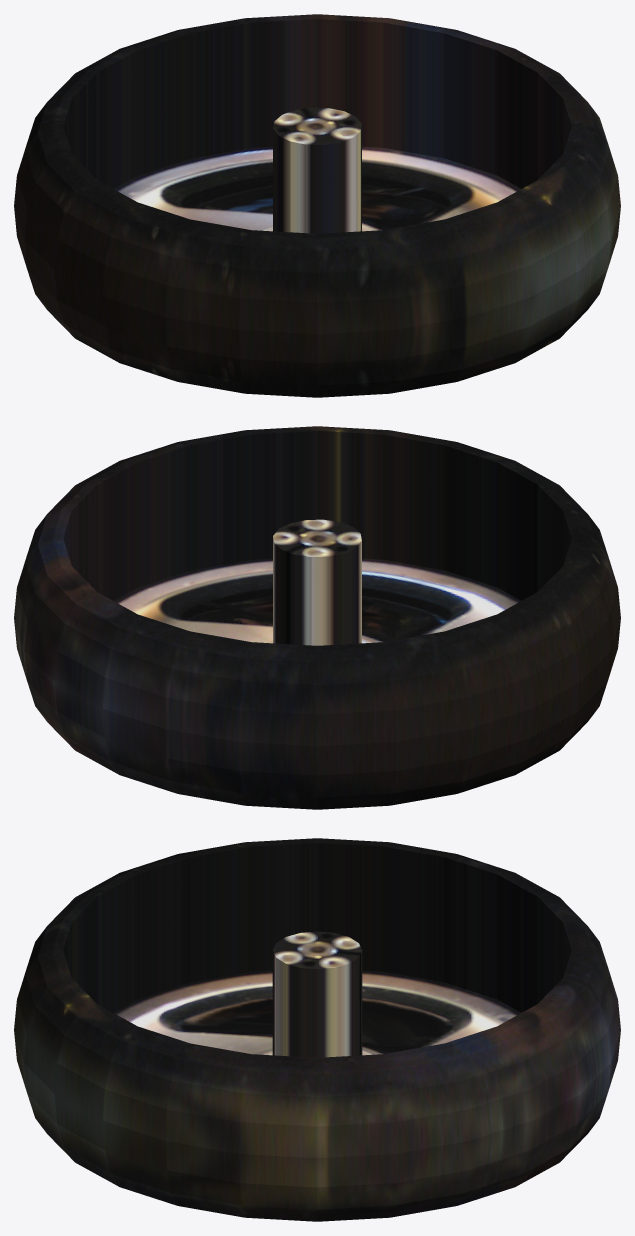
File: kurt_wheel_indoor.dae
3 views of the same model, one above another, from view 1: azimuth 30°, elevation 25°; view 2: azimuth 150°, elevation 25°; view 3: azimuth 270°, elevation 25° (orthographic).
Visible parts, largest first — view 1: node; view 2: node; view 3: node.
Boxes of the visible parts, x1,y1,x2,y2 form: node: (14,14,620,397); node: (14,426,620,809); node: (14,838,620,1221).
Size of the model in its own units: 0.1206 by 0.0349 by 0.1206.
1 material, 1 textured.
